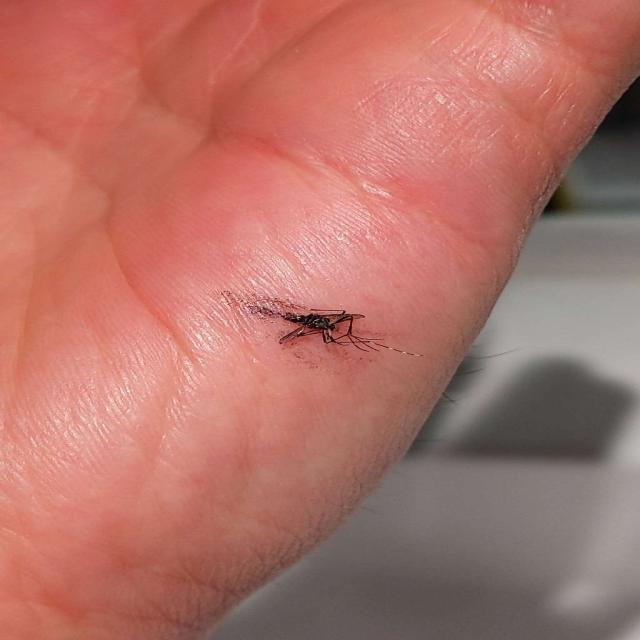albopictus: (216, 288, 416, 358)
